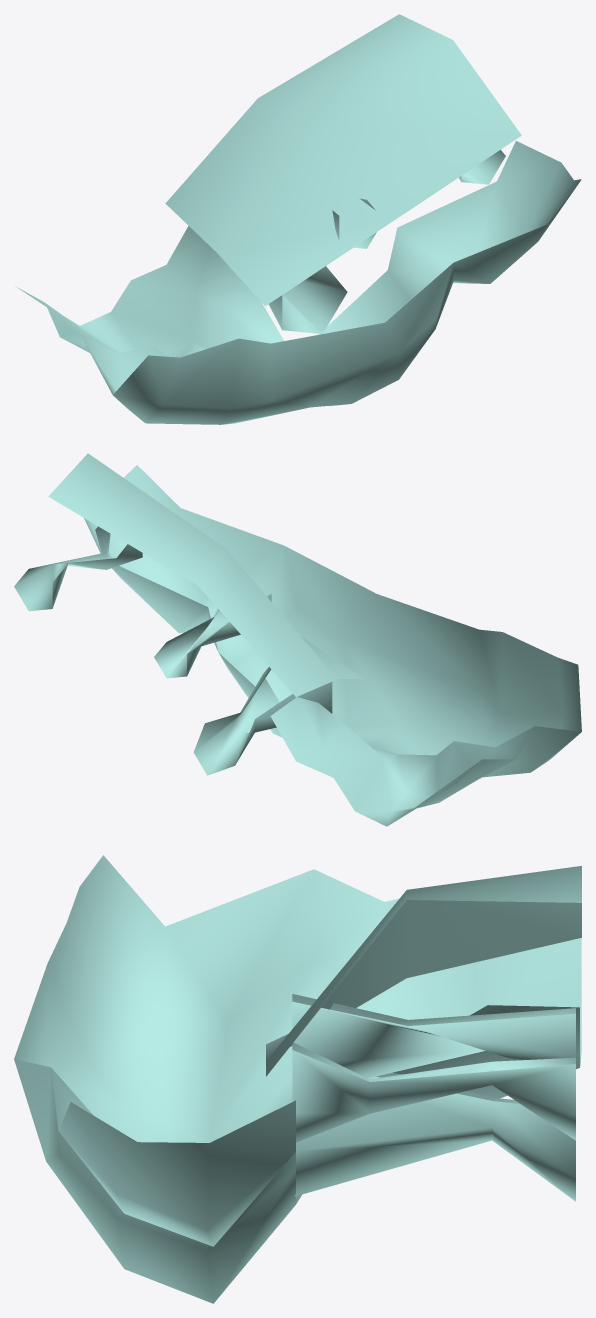
The picture shows the model from 3 angles, top to bottom: view 1: azimuth 30°, elevation 25°; view 2: azimuth 150°, elevation 25°; view 3: azimuth 270°, elevation 25°; orthographic projection. The views are drawn at different scales.
Parts seen in each view (by area): view 1: Object44; view 2: Object44; view 3: Object44.
Part boxes in pixels (box(x1,y1,x2,y2)): Object44: box(15, 14, 581, 424); Object44: box(14, 453, 581, 826); Object44: box(14, 855, 581, 1303).
Size of the model in its own units: 46835 by 27668 by 26085.
